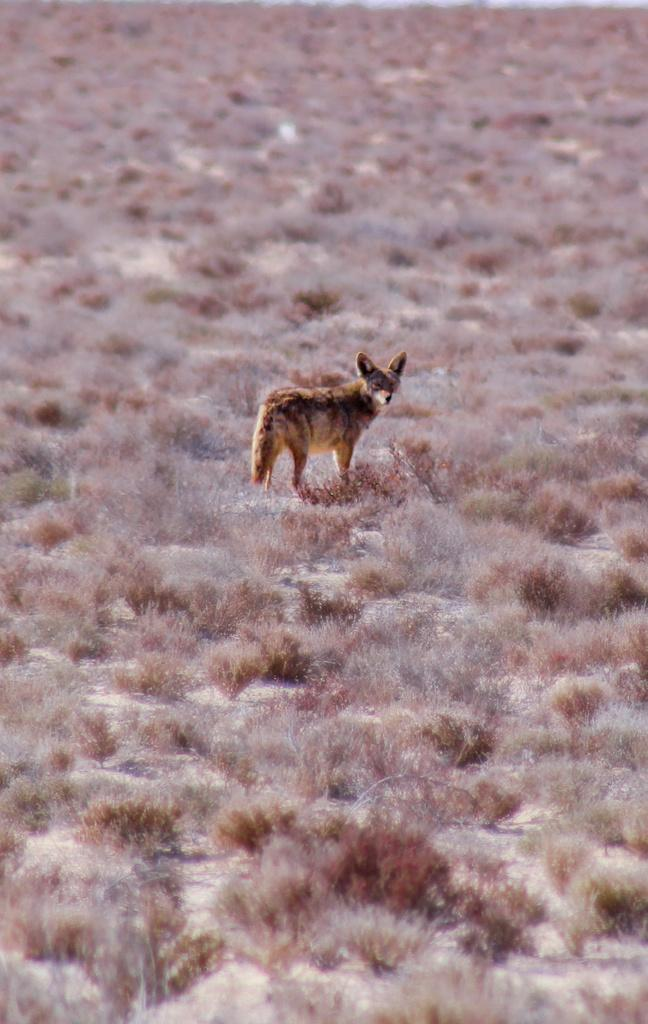Coyote: (248, 347, 407, 503)
